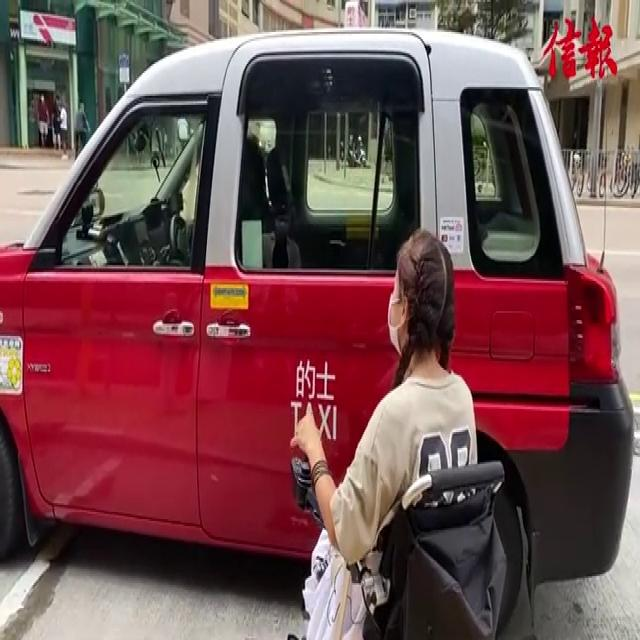wheelchairs: (284, 412, 534, 640)
